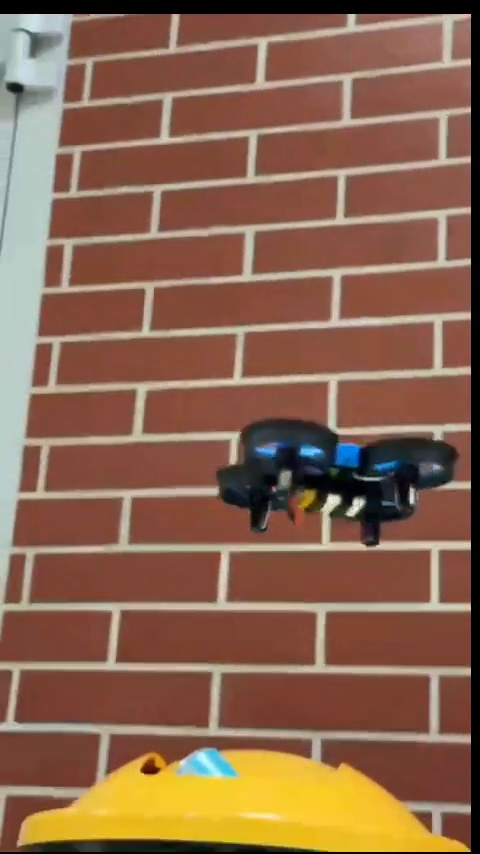drone: (218, 411, 457, 553)
